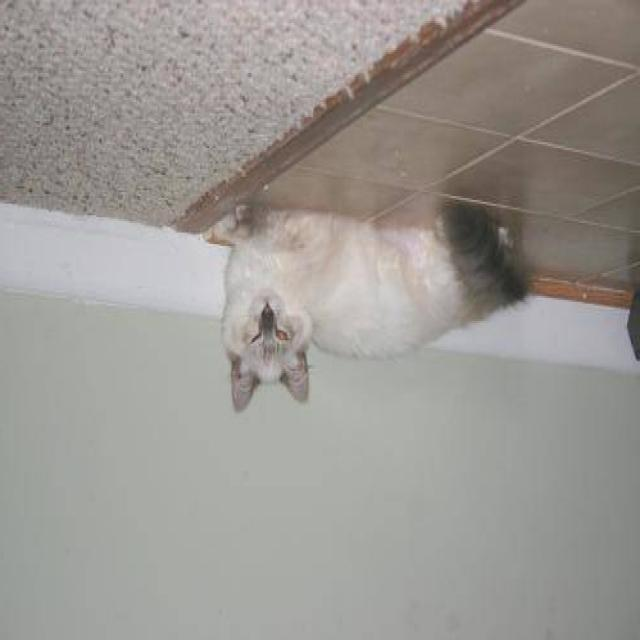Kucing: (154, 141, 529, 463)
